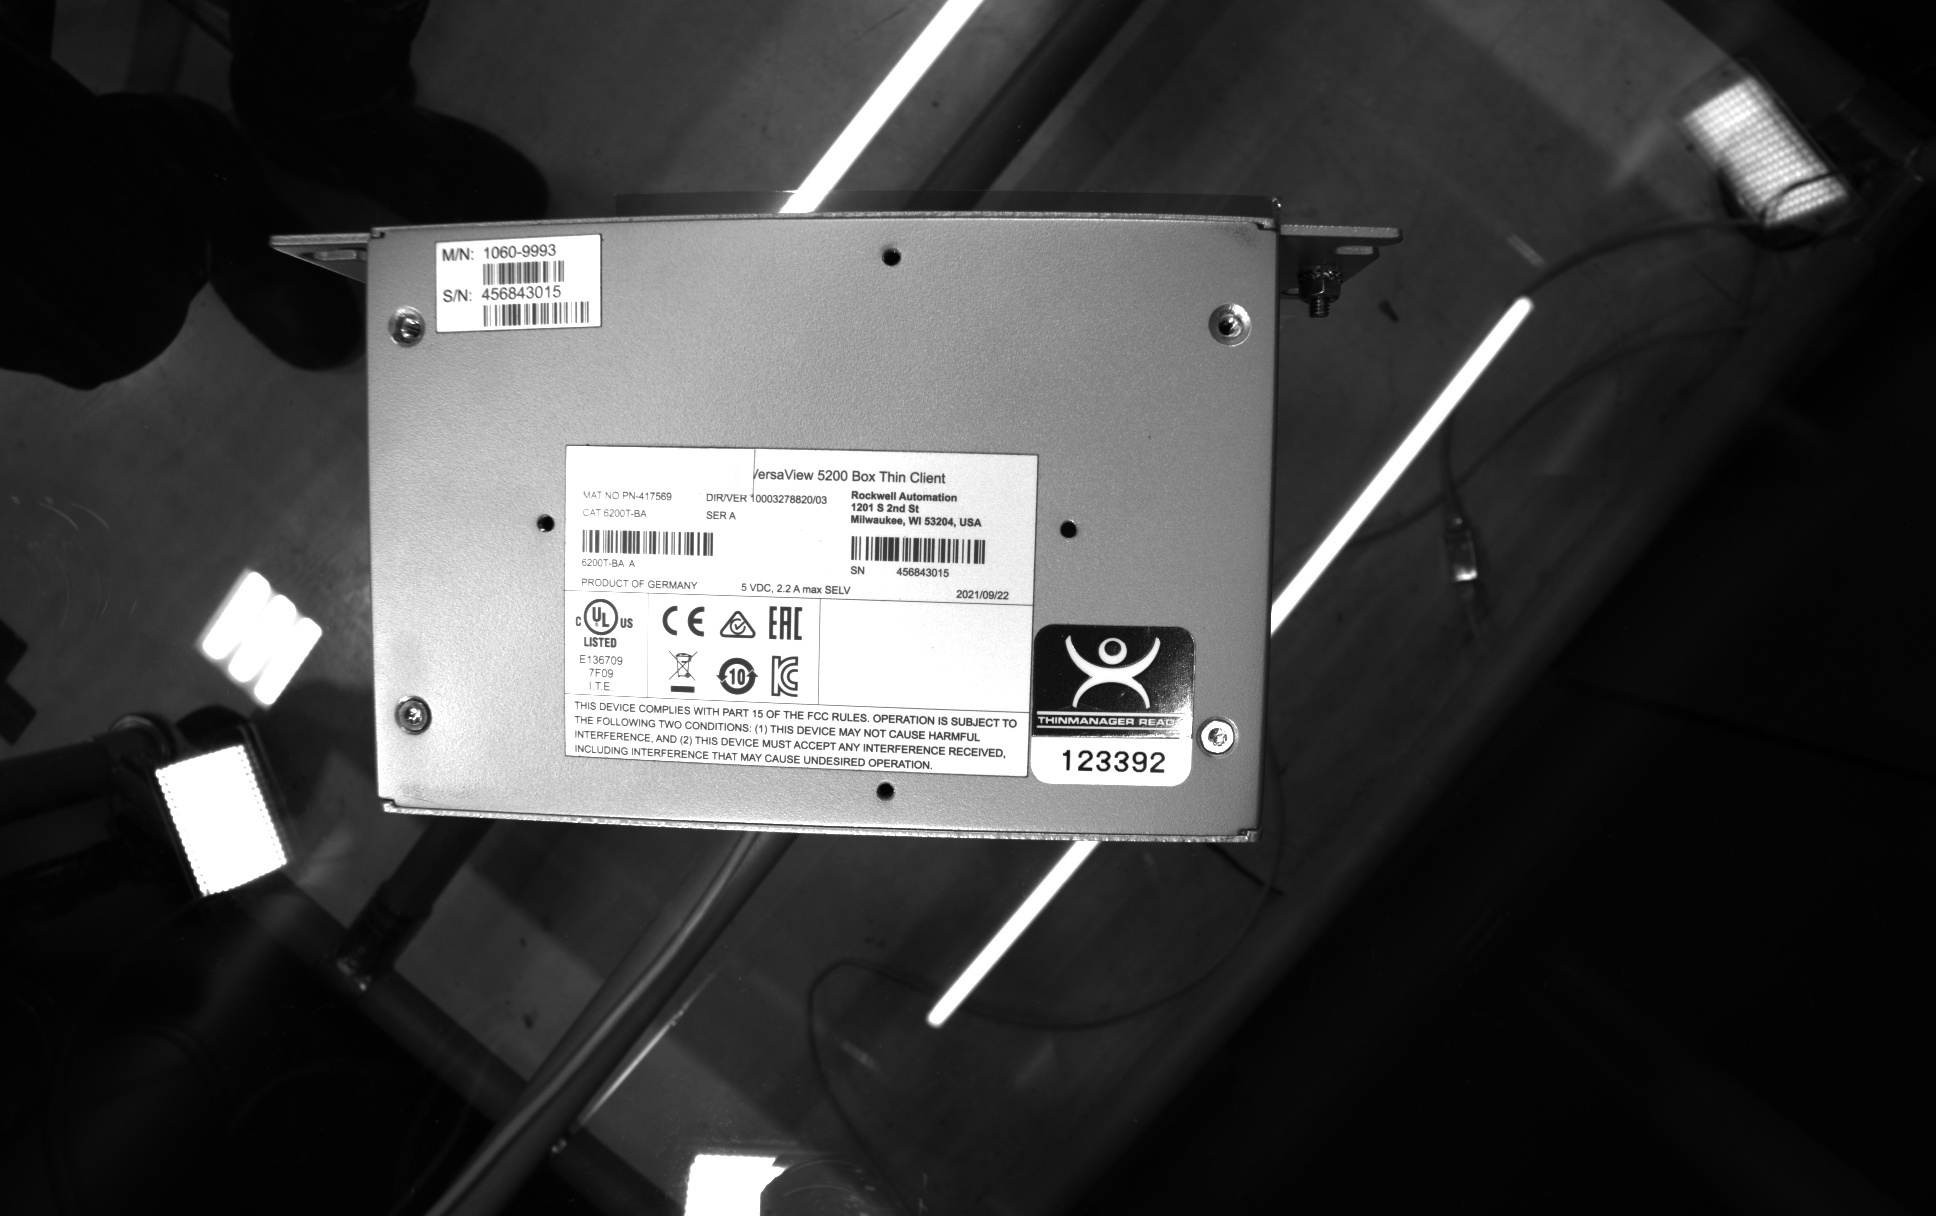Barcode: (841, 528, 995, 567), (573, 523, 721, 560), (478, 297, 595, 333), (472, 254, 570, 287)
CamTop: (338, 198, 1297, 869)
Label_Seriennummer: (552, 434, 1052, 787)
Loch: (1203, 298, 1259, 352), (382, 301, 431, 353)
Loch_Montage: (524, 502, 565, 549), (859, 773, 904, 813), (1052, 509, 1091, 551), (869, 237, 908, 277)
Schraube: (389, 691, 440, 747), (1194, 712, 1243, 766)
